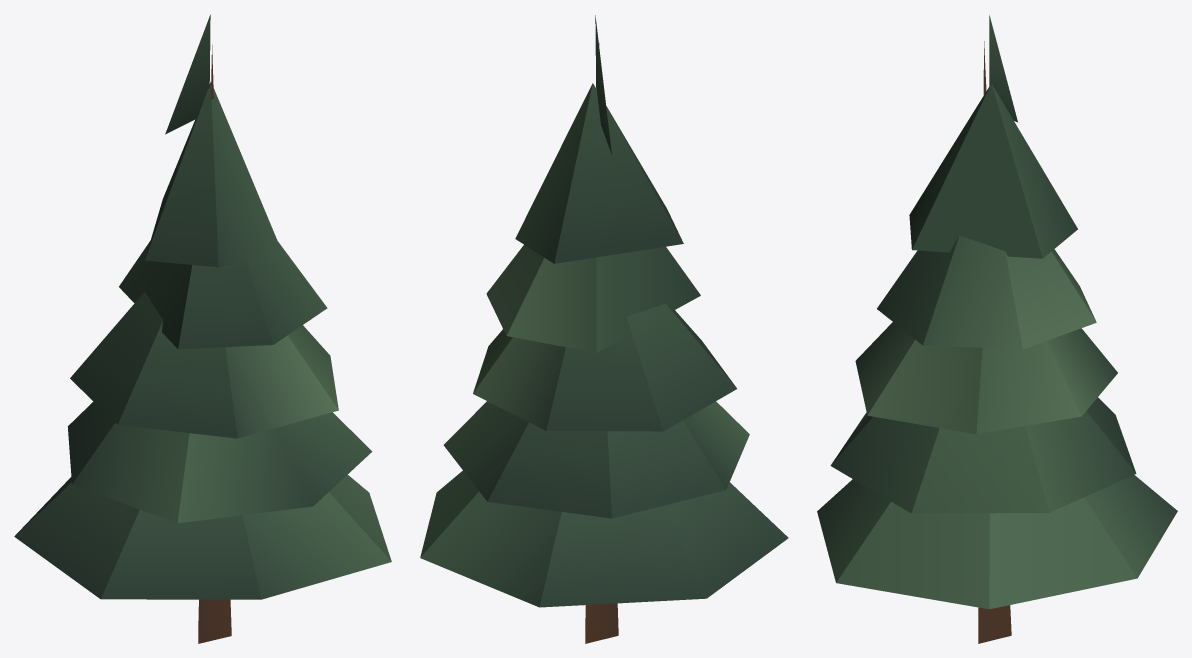
The model's file is river_pine-lod1.glb.
3 renders of one model, left to right at view 1: azimuth 30°, elevation 25°; view 2: azimuth 150°, elevation 25°; view 3: azimuth 270°, elevation 25°, orthographic.
Visible parts, largest first — view 1: river_pine; view 2: river_pine; view 3: river_pine.
Boxes of the visible parts, x1,y1,x2,y2 form: river_pine: (14,14,391,643); river_pine: (420,15,788,643); river_pine: (817,15,1177,643).
Bounding box in the file's own units: 5.5 × 10.45 × 5.49.
